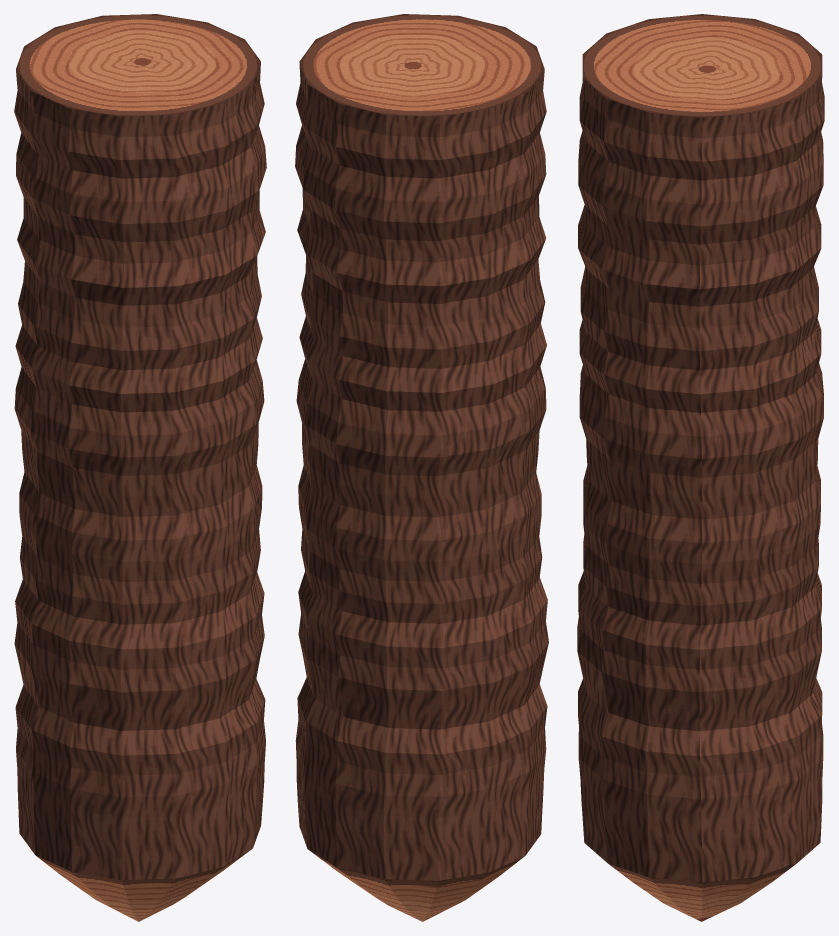
The model's file is environment_redwood1_log_v2.fbx.
The picture shows the model from 3 angles, left to right: view 1: azimuth 30°, elevation 25°; view 2: azimuth 150°, elevation 25°; view 3: azimuth 270°, elevation 25°; orthographic projection.
Parts seen in each view (by area): view 1: environment_redwood1_log_v2; view 2: environment_redwood1_log_v2; view 3: environment_redwood1_log_v2.
Boxes of the visible parts, x1,y1,x2,y2 form: environment_redwood1_log_v2: (14,14,266,921); environment_redwood1_log_v2: (295,14,548,921); environment_redwood1_log_v2: (577,14,824,921).
Size of the model in its own units: 538 by 2000 by 524.
